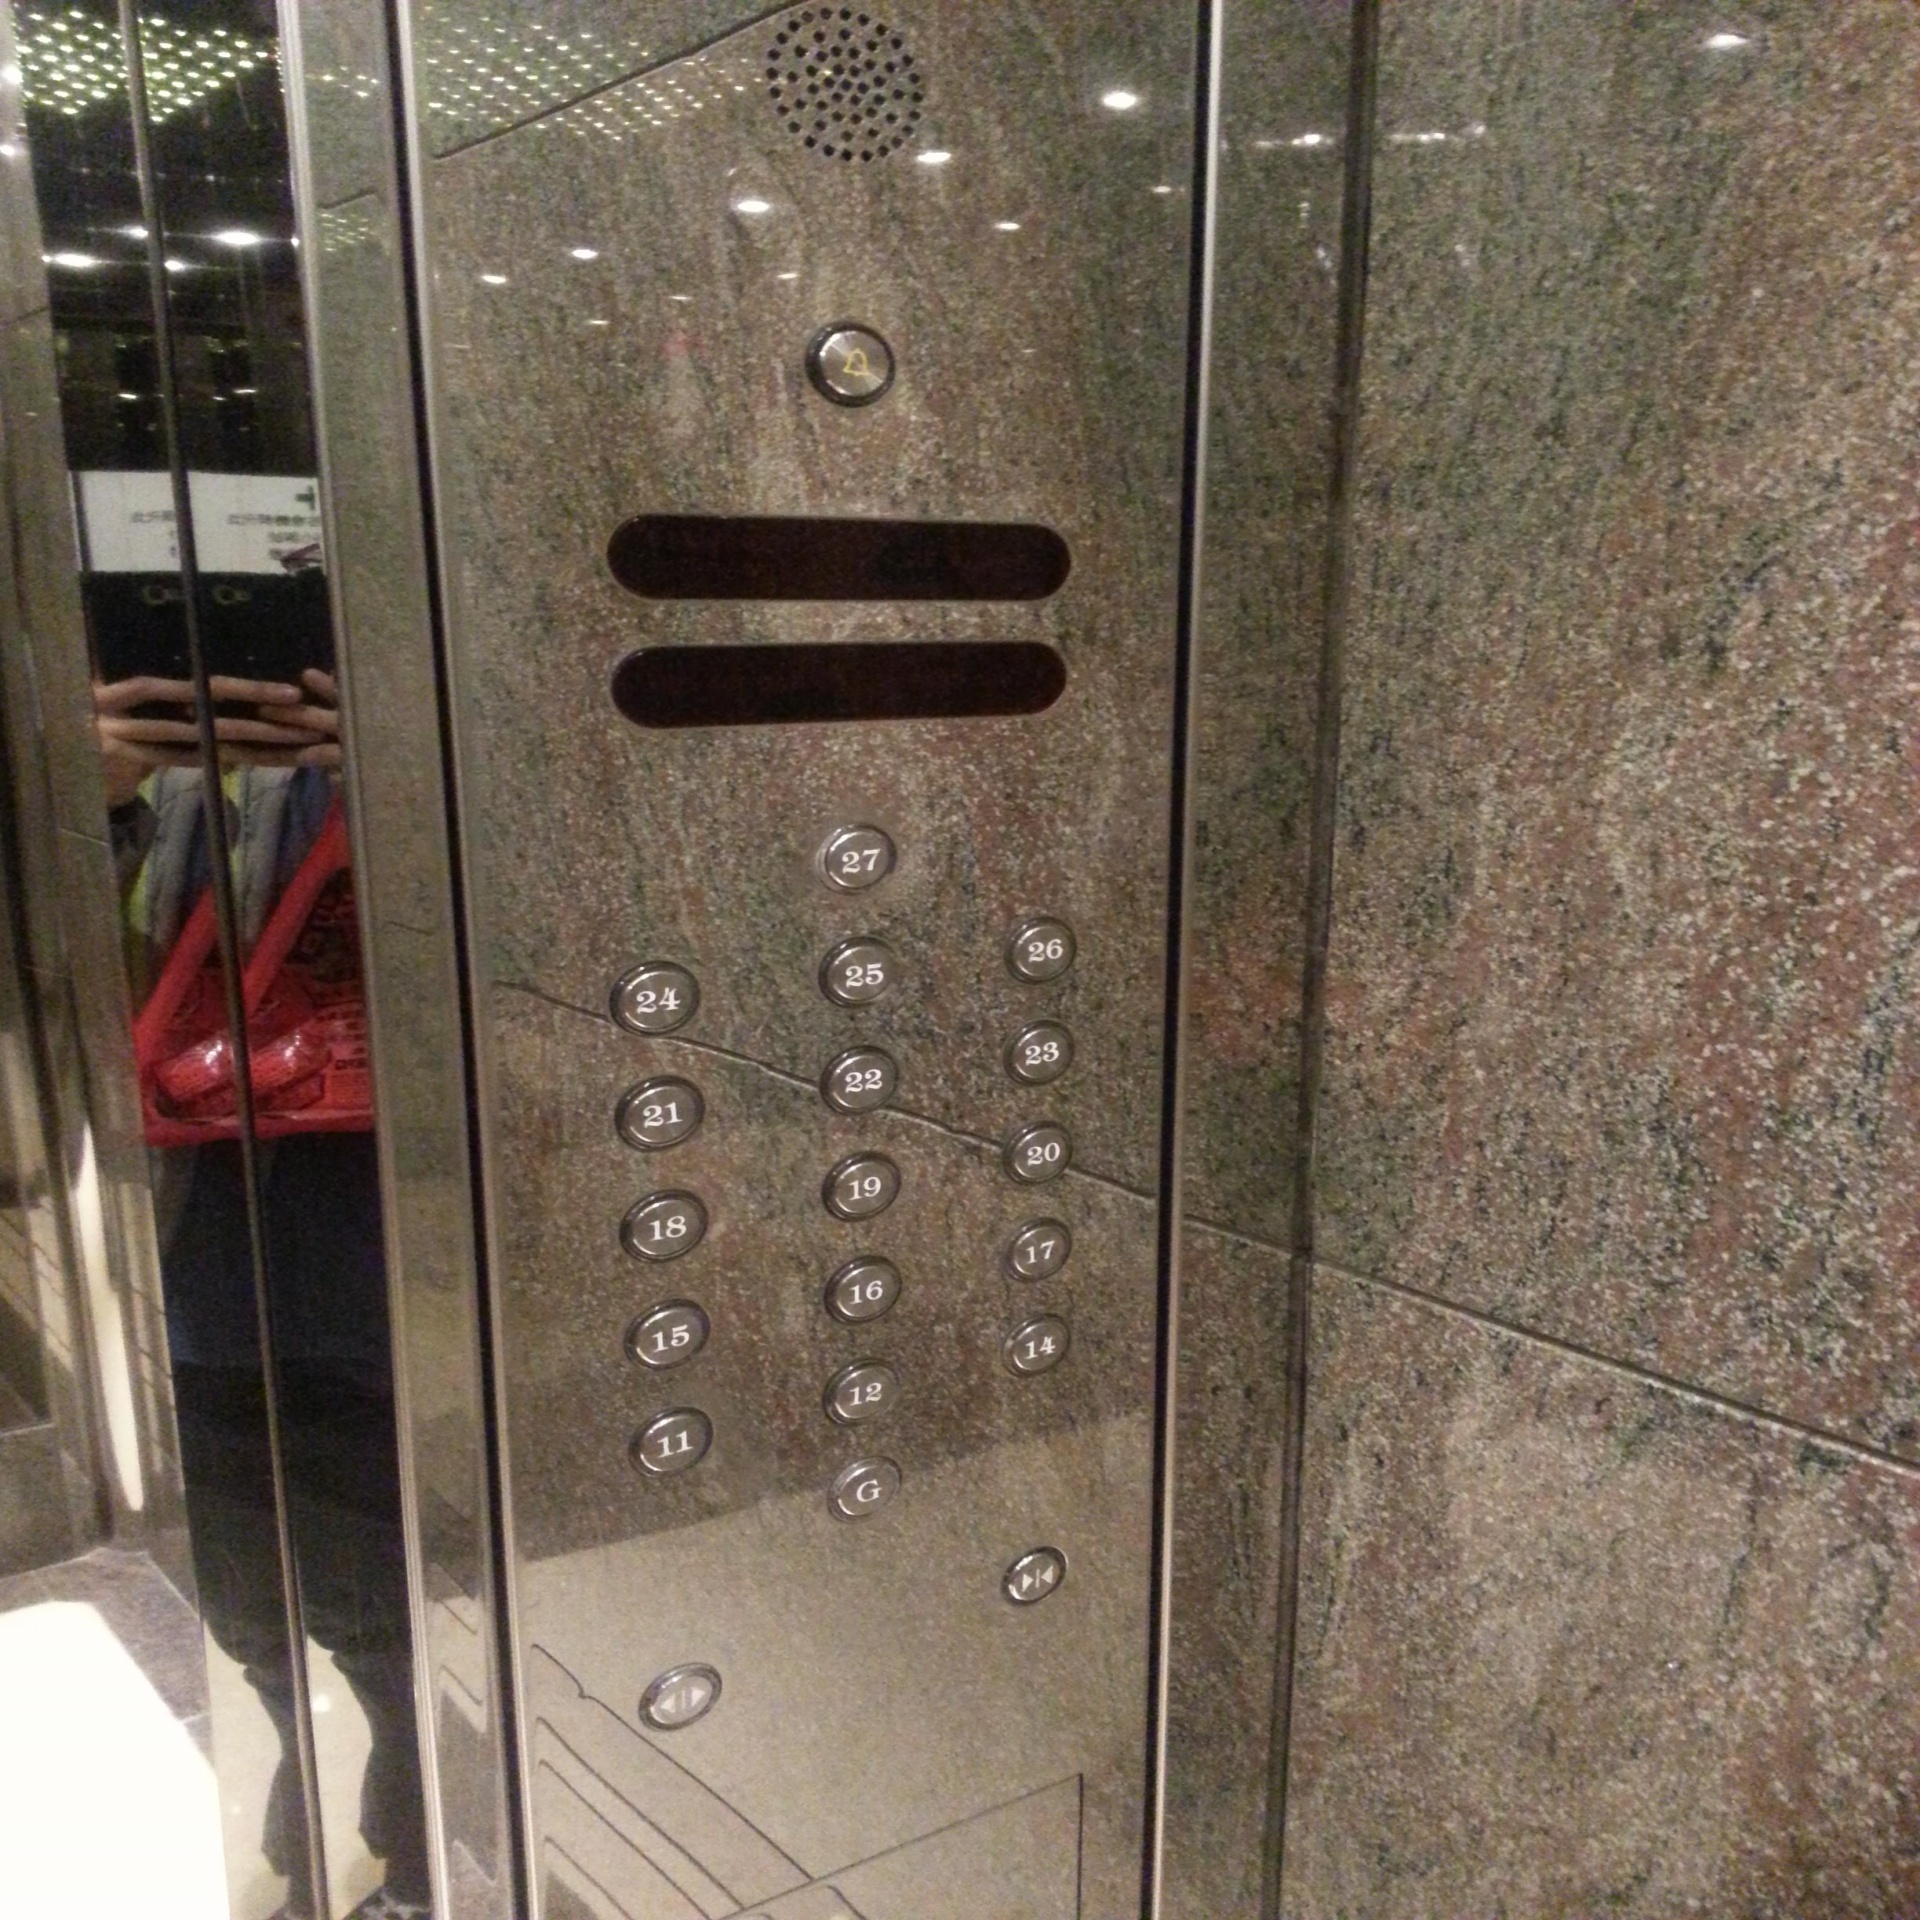11: (628, 1405, 717, 1479)
12: (821, 1356, 905, 1431)
14: (999, 1308, 1074, 1384)
15: (619, 1294, 721, 1378)
16: (821, 1254, 905, 1329)
17: (1006, 1215, 1080, 1291)
18: (615, 1185, 717, 1269)
19: (819, 1148, 904, 1225)
20: (1004, 1116, 1080, 1192)
21: (614, 1073, 714, 1155)
22: (819, 1041, 904, 1116)
23: (1004, 1011, 1080, 1090)
24: (607, 958, 707, 1043)
25: (819, 934, 904, 1009)
26: (1006, 911, 1081, 990)
27: (812, 819, 898, 898)
G: (828, 1452, 907, 1524)
alarm: (802, 315, 902, 408)
close: (995, 1542, 1073, 1611)
open: (635, 1656, 726, 1735)
